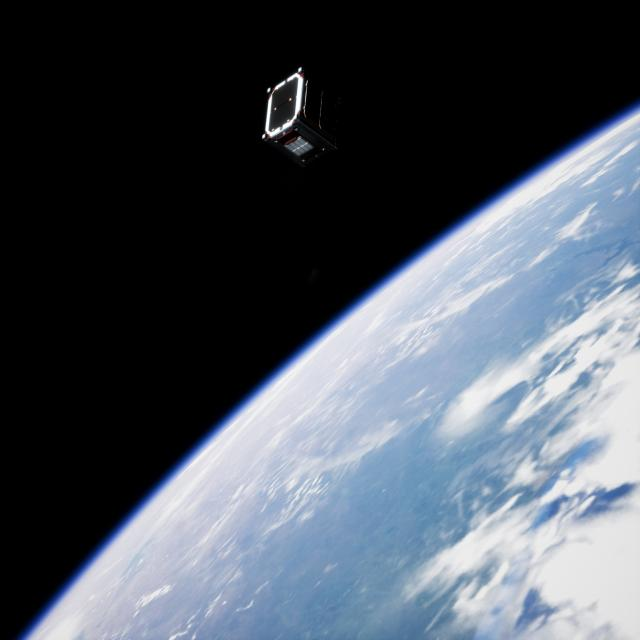satellite: (262, 66, 341, 161)
